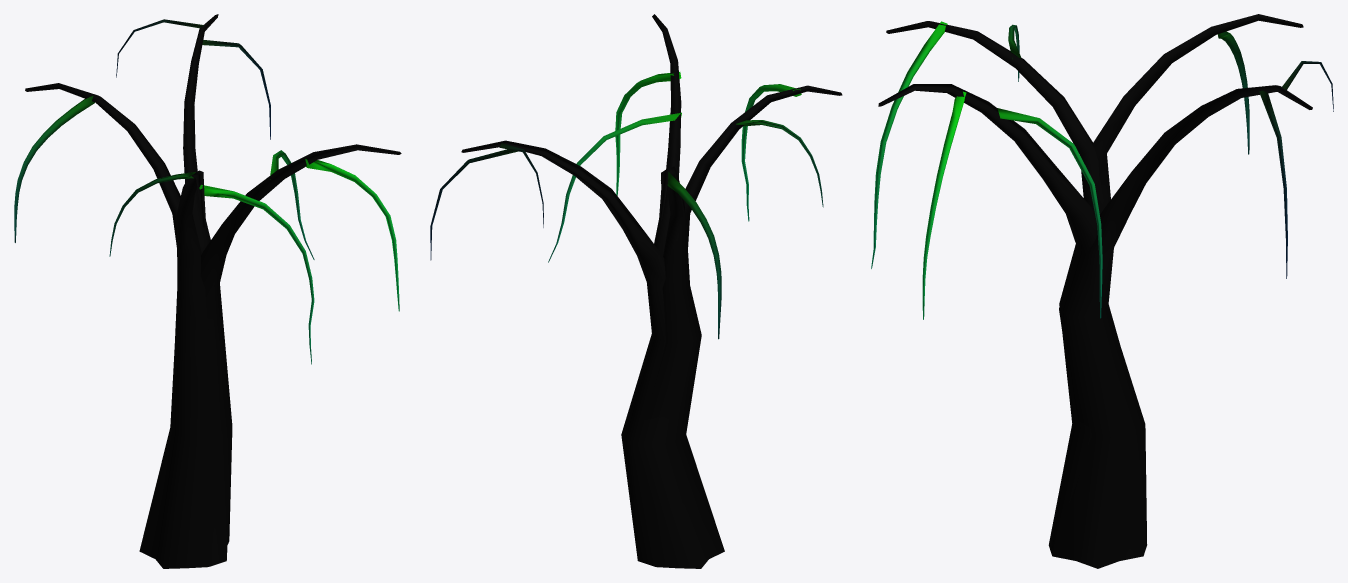
Rendered from willow_Trunk1_LOD0.fbx.
The picture shows the model from 3 angles, left to right: view 1: azimuth 30°, elevation 25°; view 2: azimuth 150°, elevation 25°; view 3: azimuth 270°, elevation 25°; orthographic projection. The views are drawn at different scales.
Parts seen in each view (by area): view 1: polySurface352; view 2: polySurface352; view 3: polySurface352.
Part boxes in pixels (x1,y1,x2,y2): polySurface352: [14, 14, 401, 568]; polySurface352: [430, 14, 842, 568]; polySurface352: [871, 14, 1333, 568].
Size of the model in its own units: 2.34 by 3.64 by 2.93.
